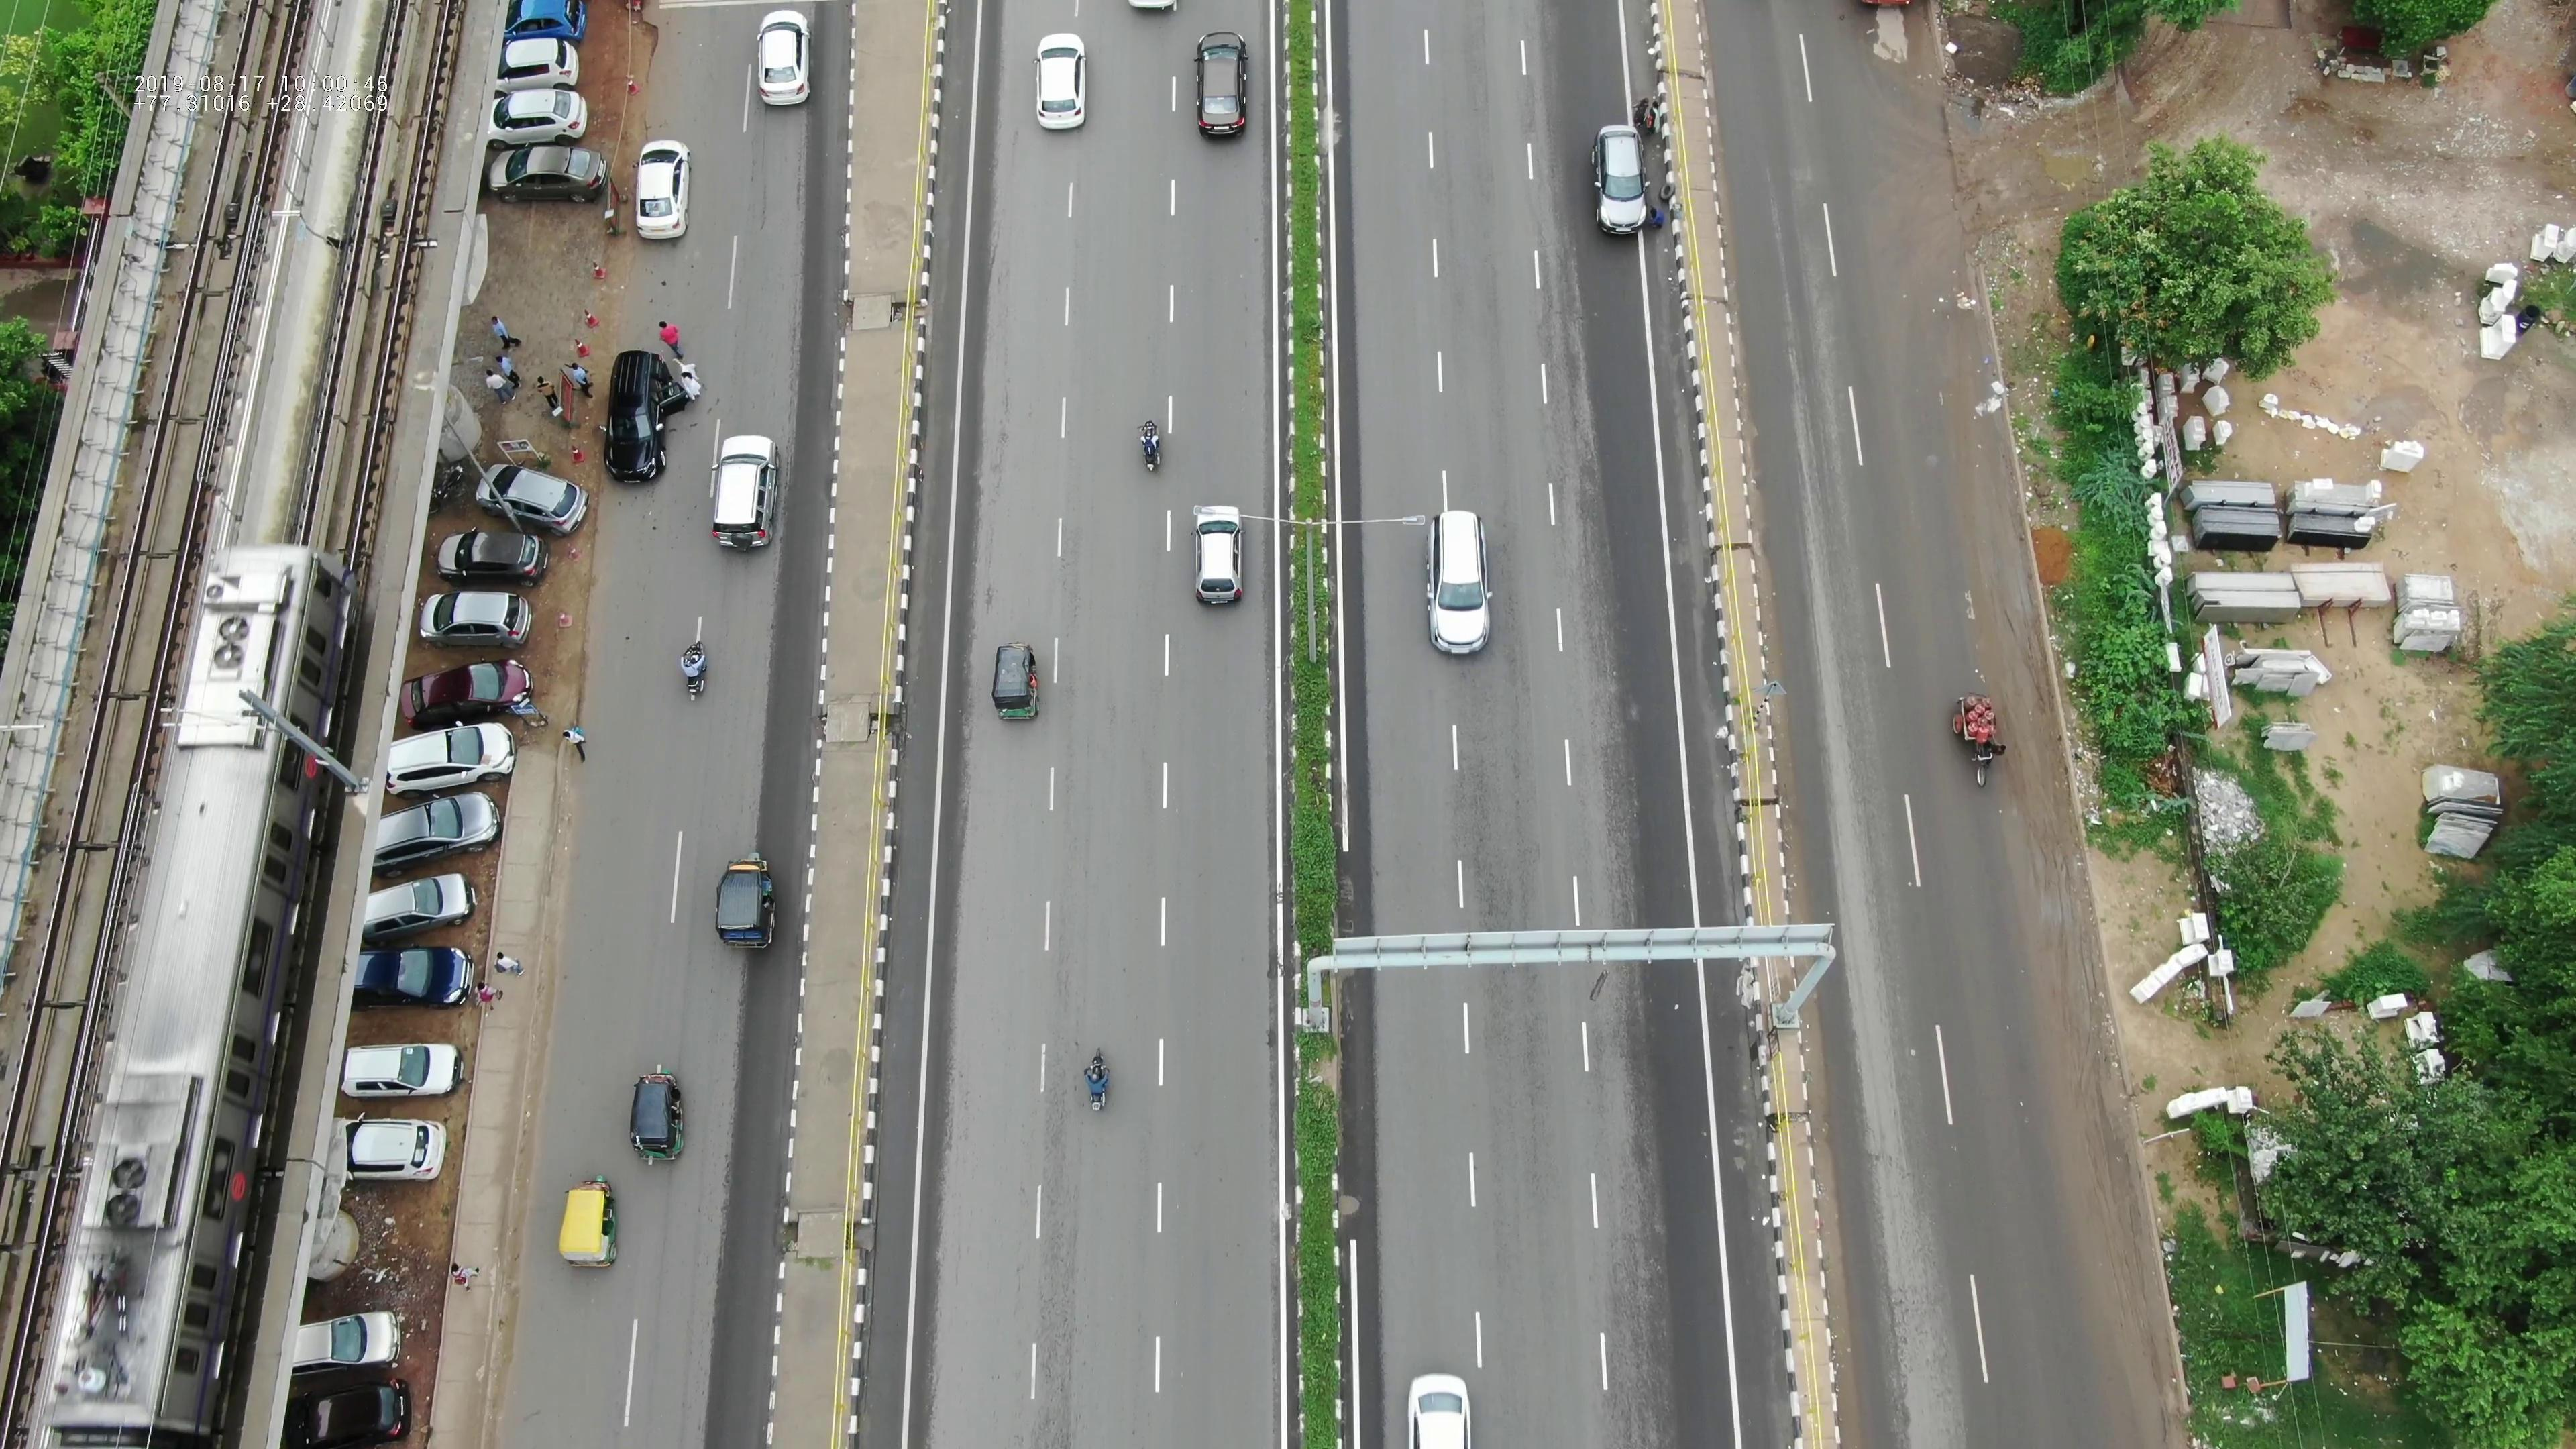Muddy_road: (2061, 961, 2137, 1231), (1980, 522, 2040, 722), (2005, 736, 2079, 851)
